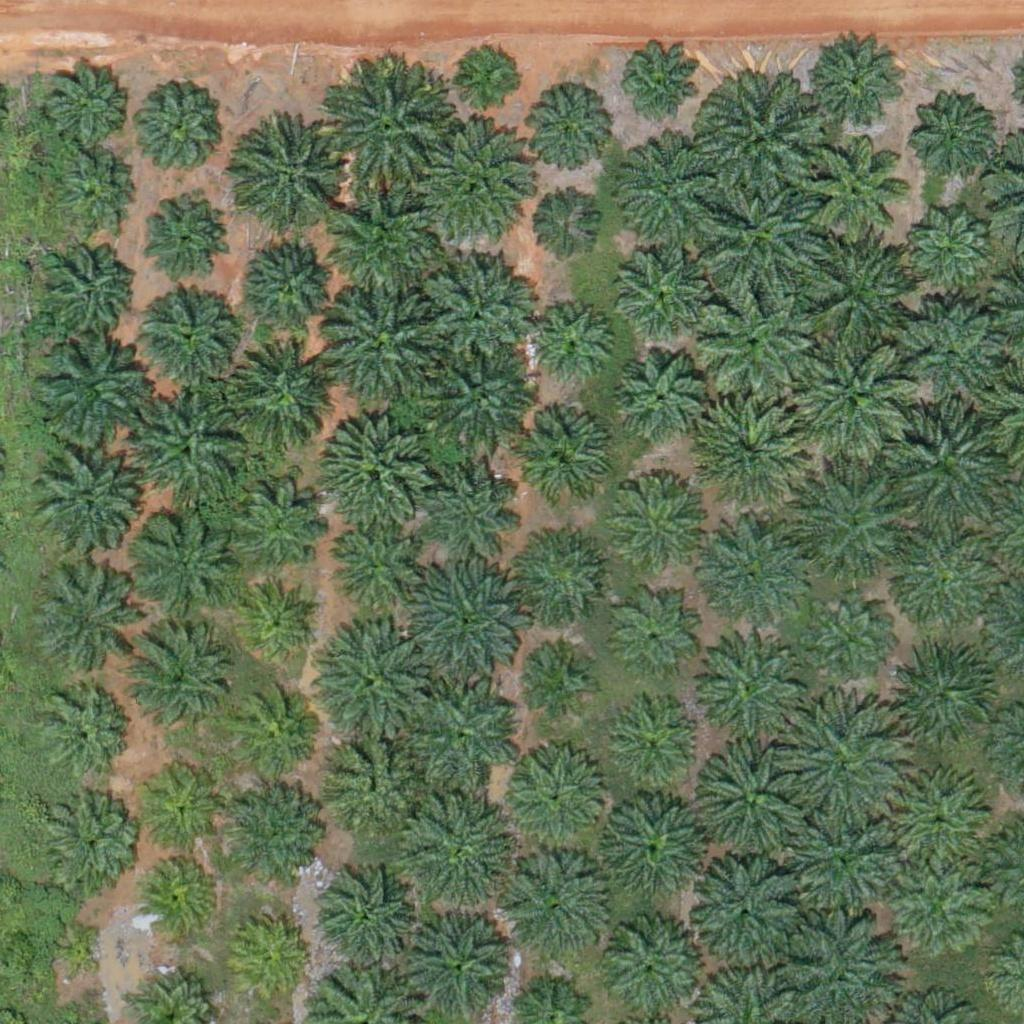Kelapa_Sawit: (775, 697, 900, 823), (797, 336, 922, 462), (696, 76, 821, 202), (326, 71, 451, 197), (700, 170, 825, 295), (690, 398, 803, 512), (694, 743, 807, 857), (597, 791, 710, 905), (426, 126, 539, 240), (222, 339, 335, 453), (886, 407, 999, 520), (800, 469, 913, 582), (701, 283, 814, 396), (694, 632, 807, 745), (615, 131, 728, 244), (502, 746, 615, 859), (404, 795, 517, 908), (408, 561, 521, 674), (329, 189, 442, 302), (320, 290, 433, 403), (317, 410, 430, 523), (215, 470, 328, 583), (875, 850, 988, 963), (325, 628, 437, 742), (127, 504, 239, 618), (124, 620, 236, 734), (33, 336, 145, 450), (690, 859, 802, 973), (499, 852, 611, 966), (885, 523, 997, 636), (788, 806, 900, 919), (802, 236, 914, 349), (692, 521, 804, 634), (407, 679, 519, 792), (426, 341, 538, 454), (421, 254, 533, 367), (132, 395, 244, 508), (399, 910, 511, 1023), (902, 302, 1002, 403), (887, 766, 987, 867), (809, 145, 909, 246), (807, 34, 907, 135), (424, 448, 524, 549), (244, 232, 344, 333), (128, 76, 228, 177), (28, 568, 128, 669), (513, 410, 613, 510), (328, 731, 428, 831), (239, 130, 339, 230), (141, 286, 241, 386), (37, 788, 137, 888), (32, 455, 132, 555), (37, 239, 137, 339), (523, 88, 611, 177), (227, 791, 315, 880), (234, 578, 322, 666), (901, 650, 989, 738), (610, 700, 698, 788), (614, 246, 702, 334), (524, 300, 612, 388), (323, 524, 411, 612), (226, 690, 314, 778), (135, 192, 223, 280), (37, 686, 125, 774), (137, 851, 225, 939), (615, 42, 702, 130), (617, 476, 704, 564), (616, 350, 703, 438), (518, 531, 605, 619), (139, 766, 226, 854), (55, 147, 142, 235), (43, 64, 130, 152), (324, 873, 411, 961), (525, 193, 600, 269), (915, 99, 990, 175), (913, 216, 988, 292), (620, 602, 695, 678), (234, 920, 309, 996), (814, 592, 889, 667), (459, 45, 522, 108), (527, 650, 590, 713), (48, 933, 98, 983)
